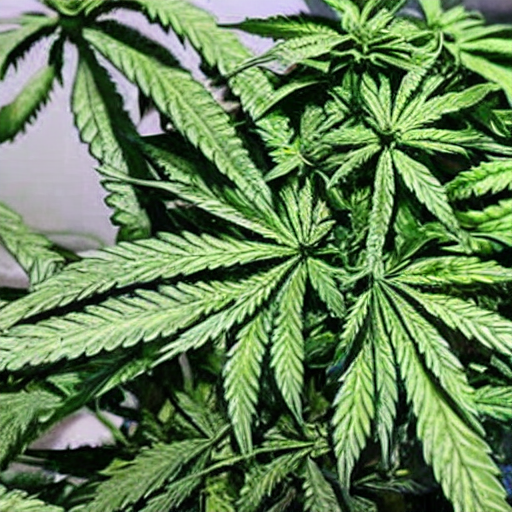Marijuana Joint: (7, 1, 512, 512)
